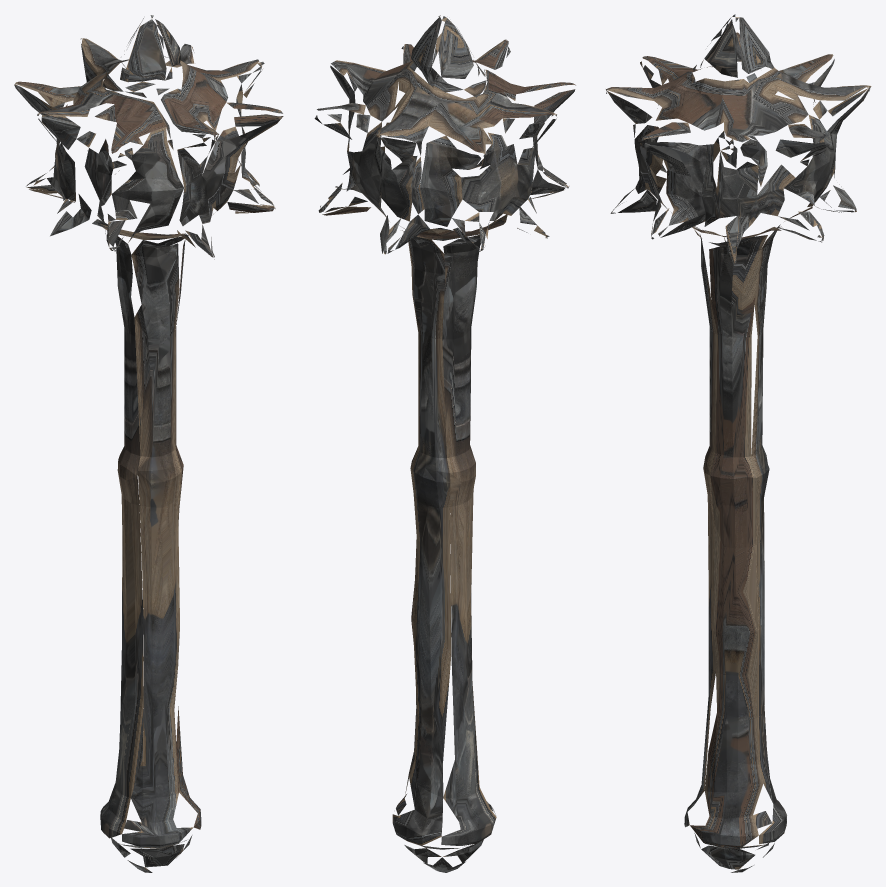
The model's file is war-mace.glb.
3 renders of one model, left to right at view 1: azimuth 30°, elevation 25°; view 2: azimuth 150°, elevation 25°; view 3: azimuth 270°, elevation 25°, orthographic.
Parts seen in each view (by area): view 1: mesh; view 2: mesh; view 3: mesh.
Boxes of the visible parts, left/top/right/bottom form: mesh: left=14, top=15, right=283, bottom=872; mesh: left=314, top=15, right=575, bottom=872; mesh: left=606, top=14, right=871, bottom=872.
Size of the model in its own units: 0.5527 by 2 by 0.5643.
Materials: 1 (1 with a texture image).
